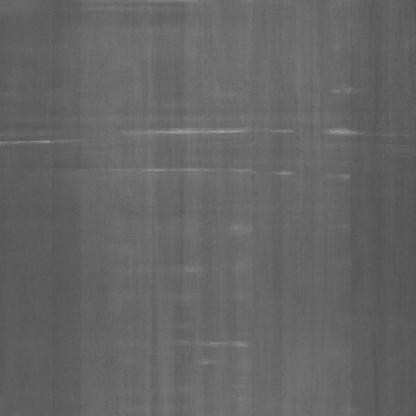waist_folding: (0, 49, 399, 221), (82, 293, 264, 412)
